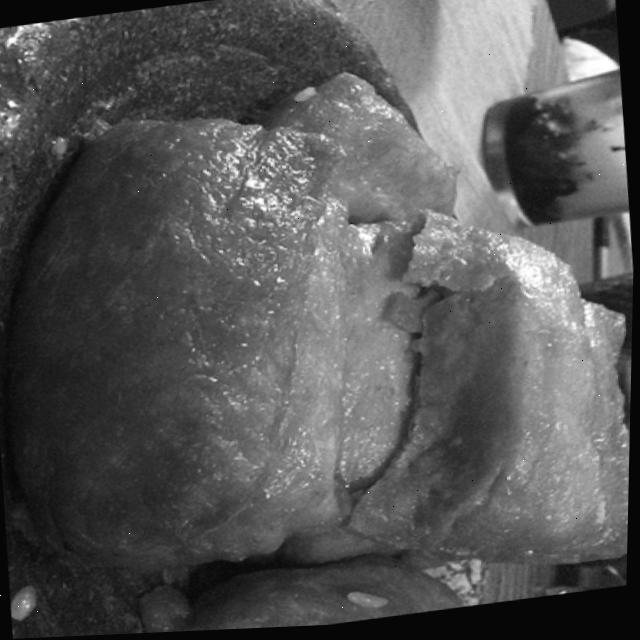寿司卷物: (0, 34, 639, 640)
